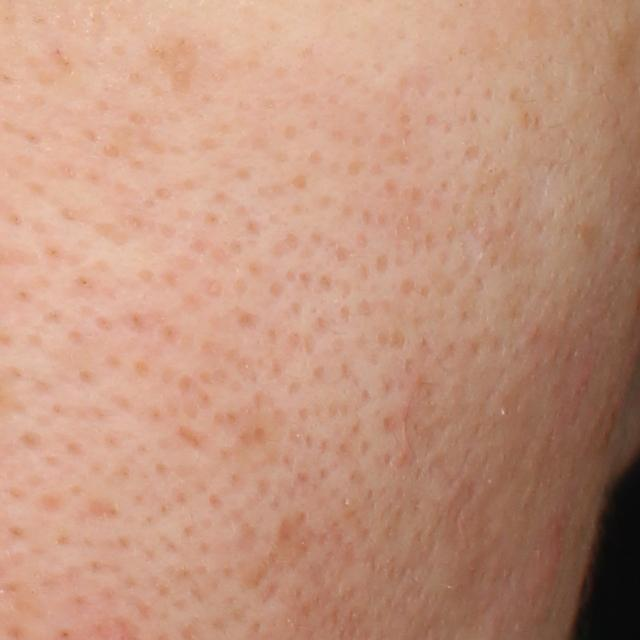atrophic_scar: (248, 508, 322, 593), (170, 424, 217, 459), (82, 498, 122, 523)
